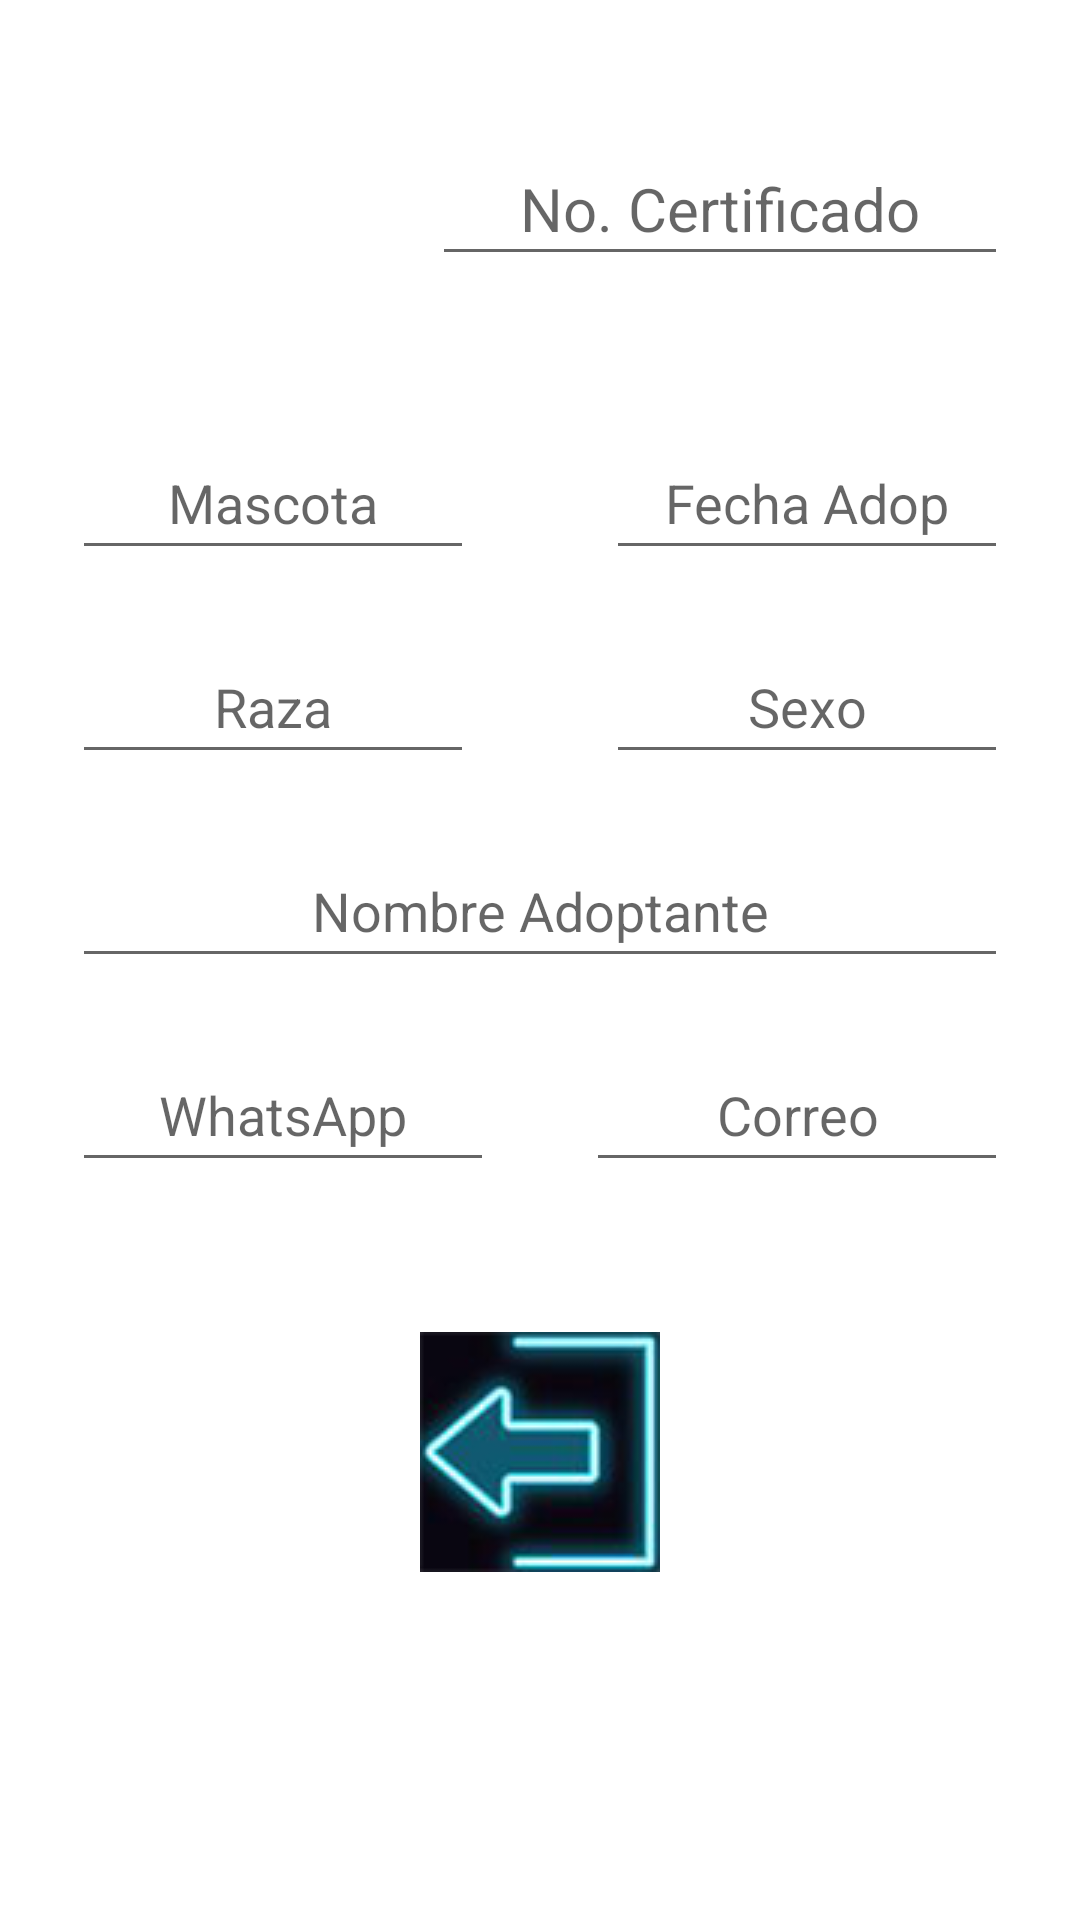

Where icons sit on this 1080 x 1920 app screen, as (x1, y1, x2, y2):
btnsal: (420, 1332, 660, 1572)
